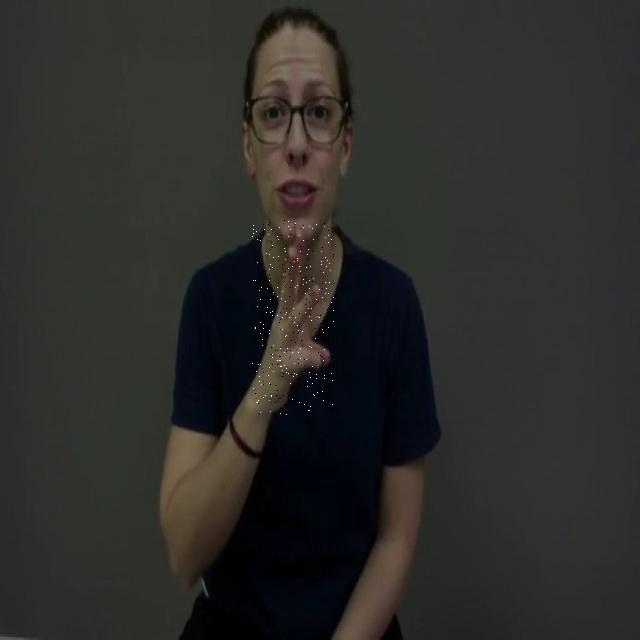water: (252, 220, 334, 415)
